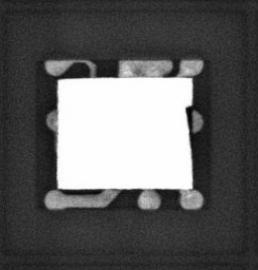DIE_BROKEN: (183, 102, 193, 145)
